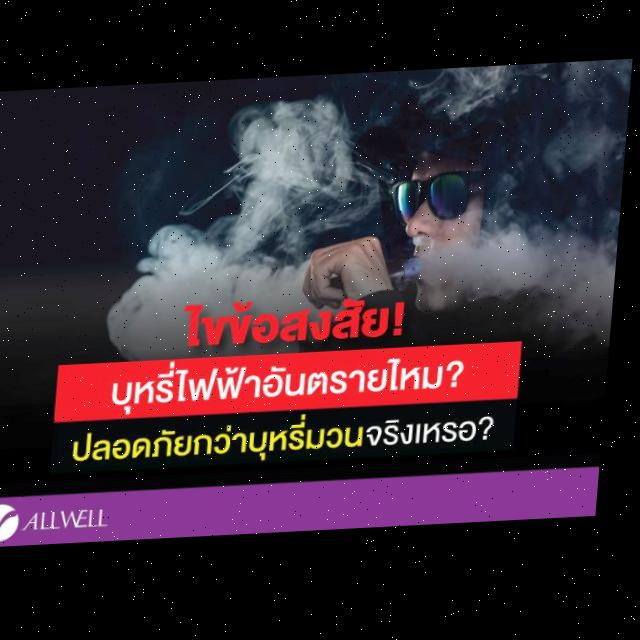vape: (334, 260, 428, 293)
